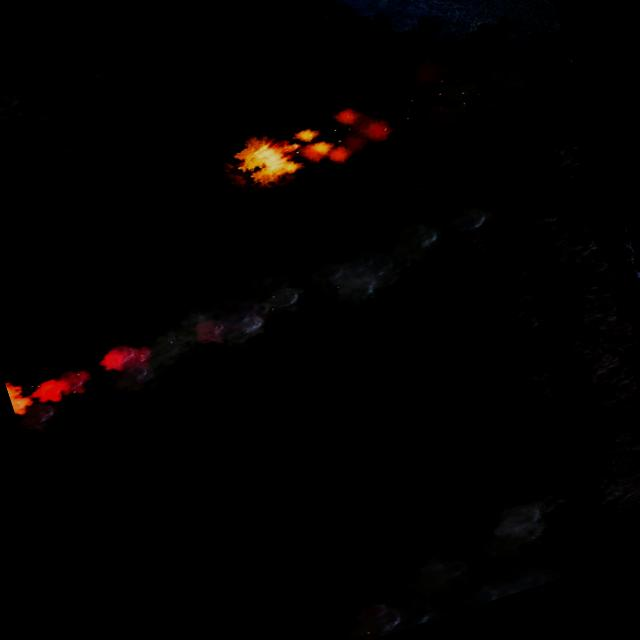fire: (234, 129, 306, 188)
smoke: (0, 255, 324, 449), (311, 490, 583, 640), (290, 29, 554, 174), (292, 200, 506, 322)
